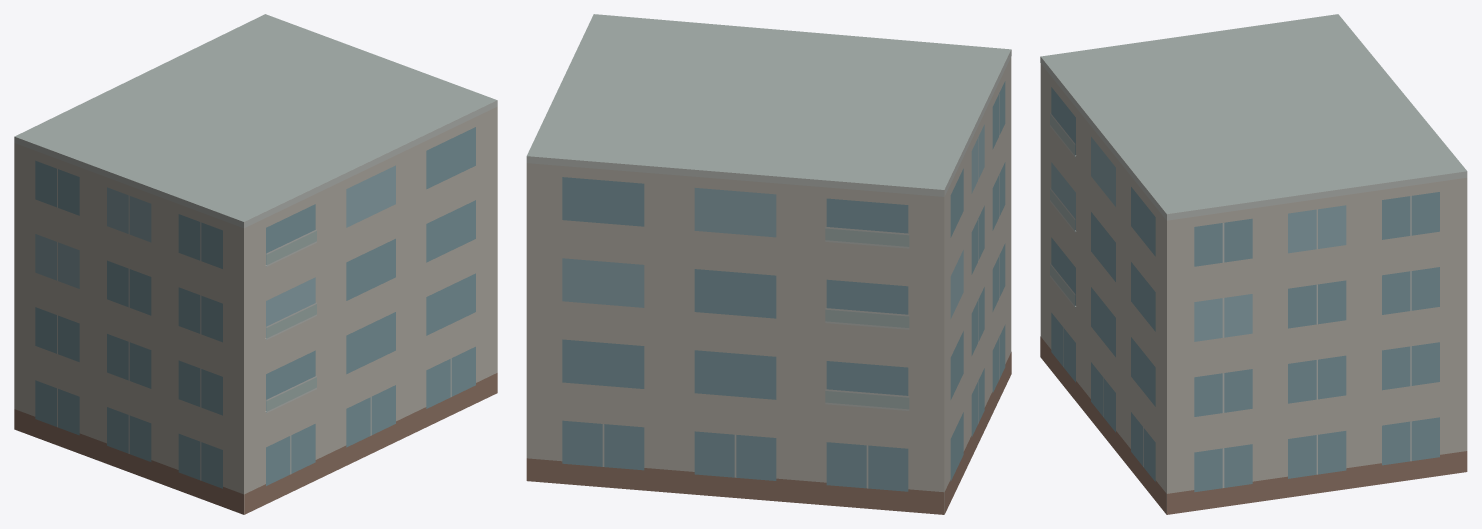
Rendered from survey-upis-32737986.glb.
3 renders of one model, left to right at view 1: azimuth 30°, elevation 25°; view 2: azimuth 150°, elevation 25°; view 3: azimuth 270°, elevation 25°, orthographic. The views are drawn at different scales.
Visible parts, largest first — view 1: survey-upis-32737986.tmp; view 2: survey-upis-32737986.tmp; view 3: survey-upis-32737986.tmp.
Boxes of the visible parts, left/top/right/bottom form: survey-upis-32737986.tmp: left=14, top=14, right=497, bottom=514; survey-upis-32737986.tmp: left=526, top=14, right=1011, bottom=514; survey-upis-32737986.tmp: left=1040, top=14, right=1467, bottom=514.
Bounding box in the file's own units: 16.29 × 11.4 × 14.68.
